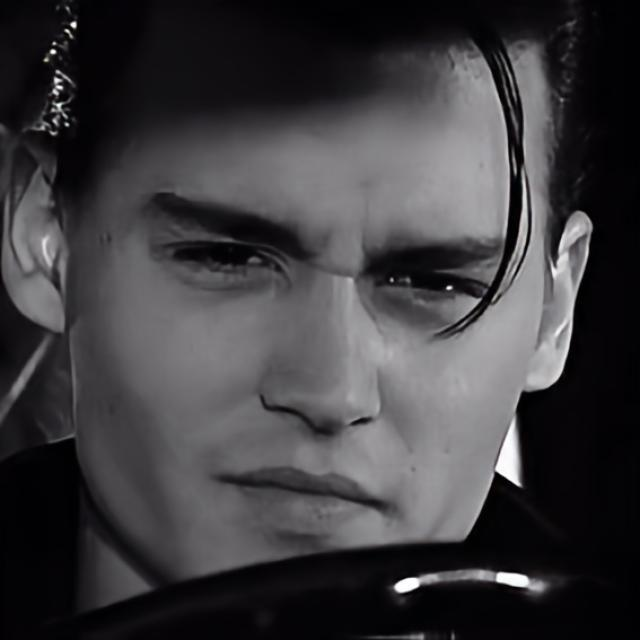anger: (78, 64, 534, 611)
